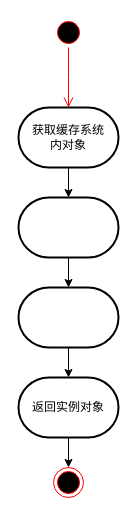
This 136x515 diagram has some shape labels left out. The centre of each missing label's shape, as x and y in pixels:
调用对应缓存类的获取实例方法: the point at 68,317
调用缓存系统外观类的对应方法: the point at 68,227
